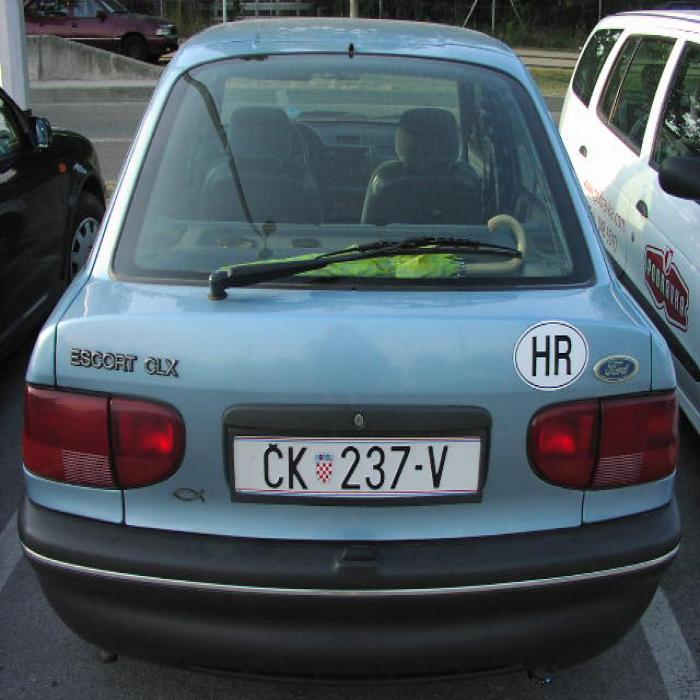number_plate: (234, 435, 476, 493)
